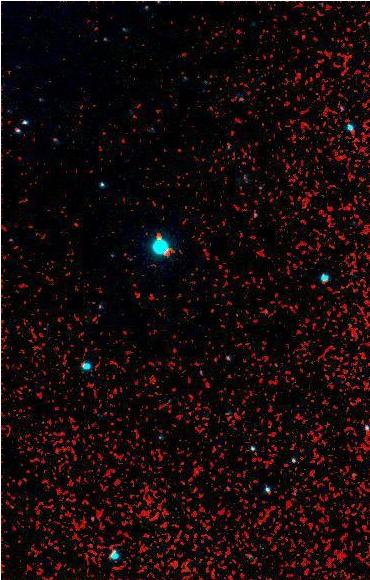star: (142, 219, 172, 249)
